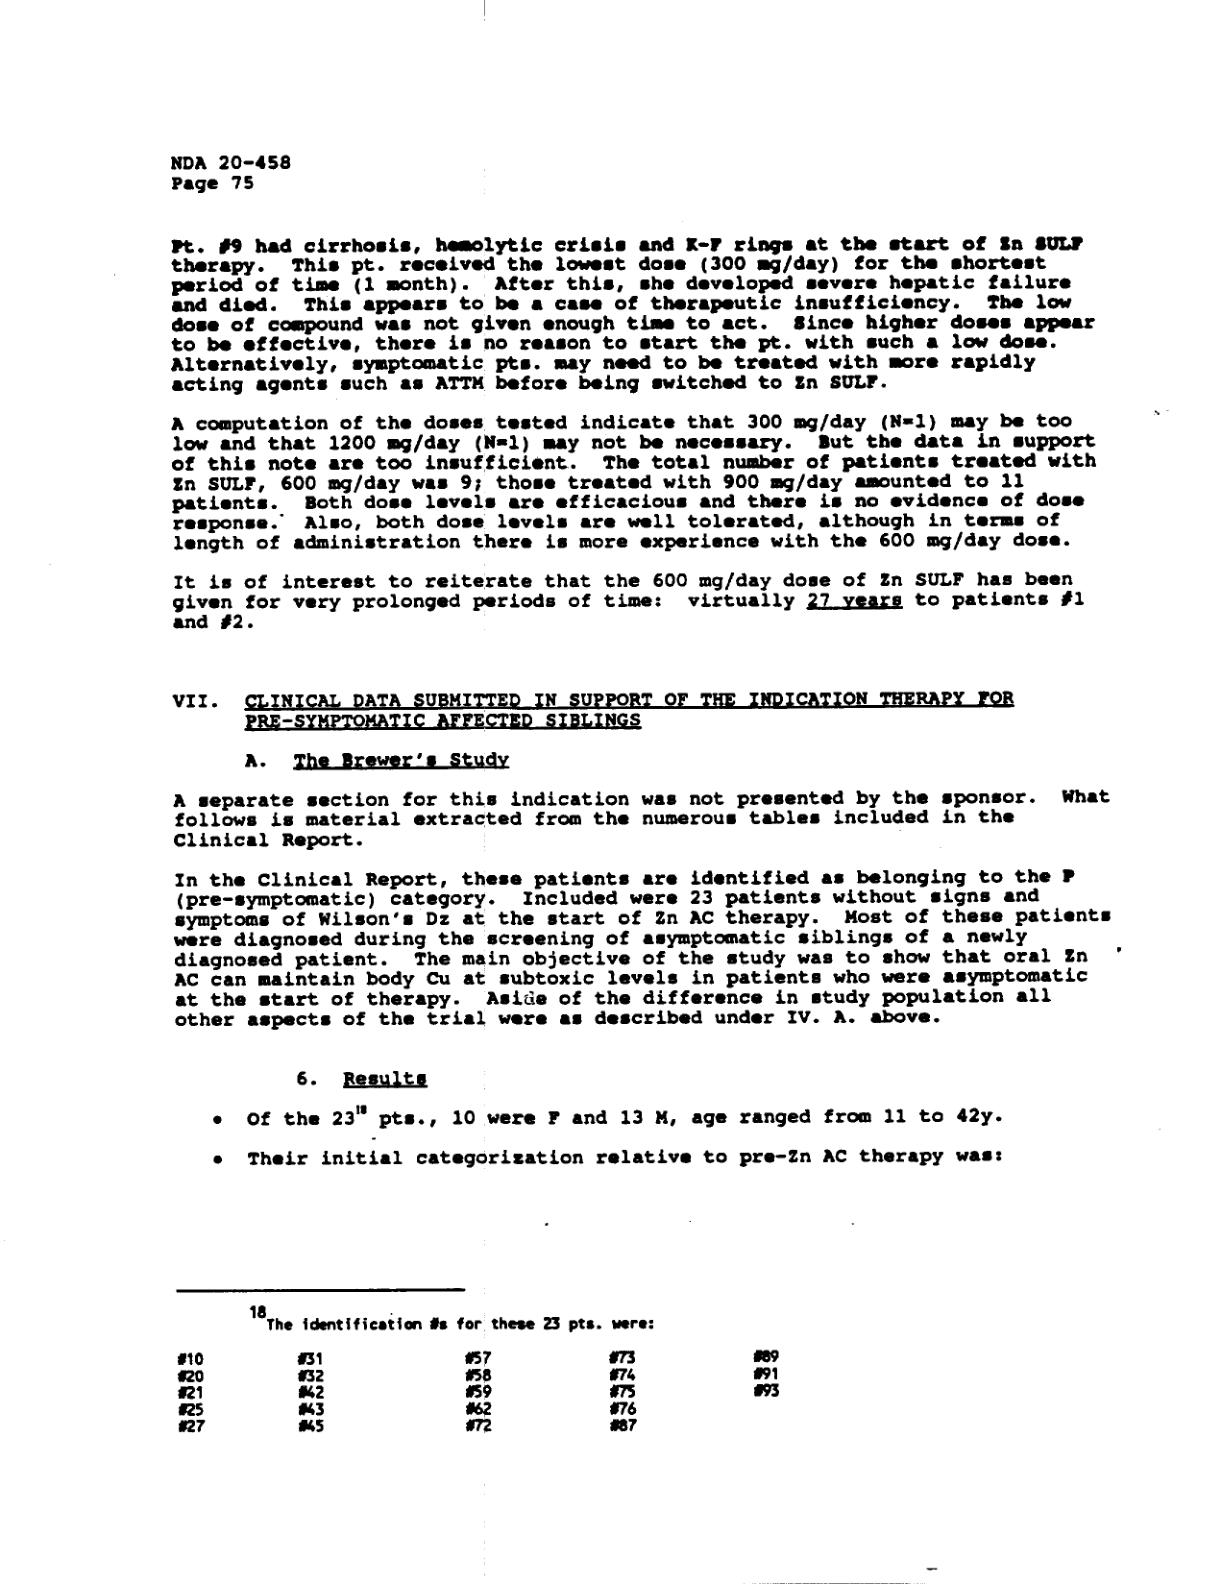nolines: (175, 1346, 782, 1439)
